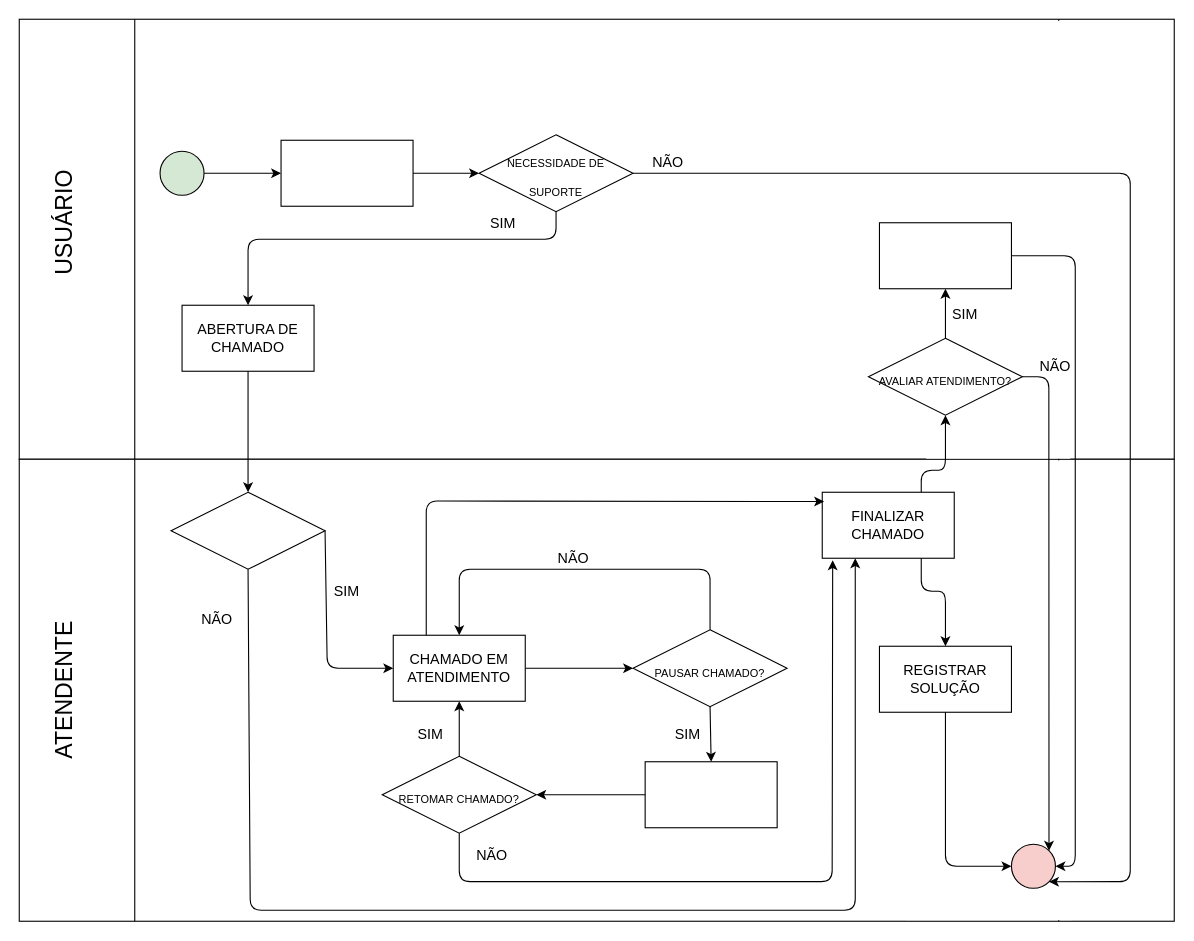
This 1194x941 diagram has some shape labels left out. The box of each missing label's shape, as (x1, y1, x2, y2) in pixels:
ATENDER CHAMADO?: (170, 491, 325, 569)
AVALIAR ATENDIMENTO: (878, 222, 1011, 289)
CHAMADO PAUSADO: (644, 761, 777, 828)
OCORRÊNCIA DE FALHA/ERRO: (280, 139, 413, 206)
